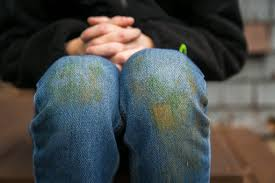earth: (148, 80, 187, 129), (59, 67, 98, 100)
